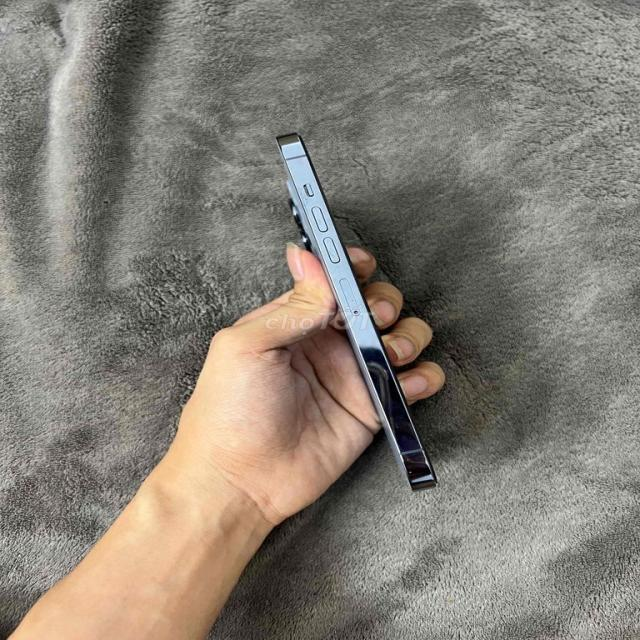gen_12_13: (268, 123, 447, 503)
